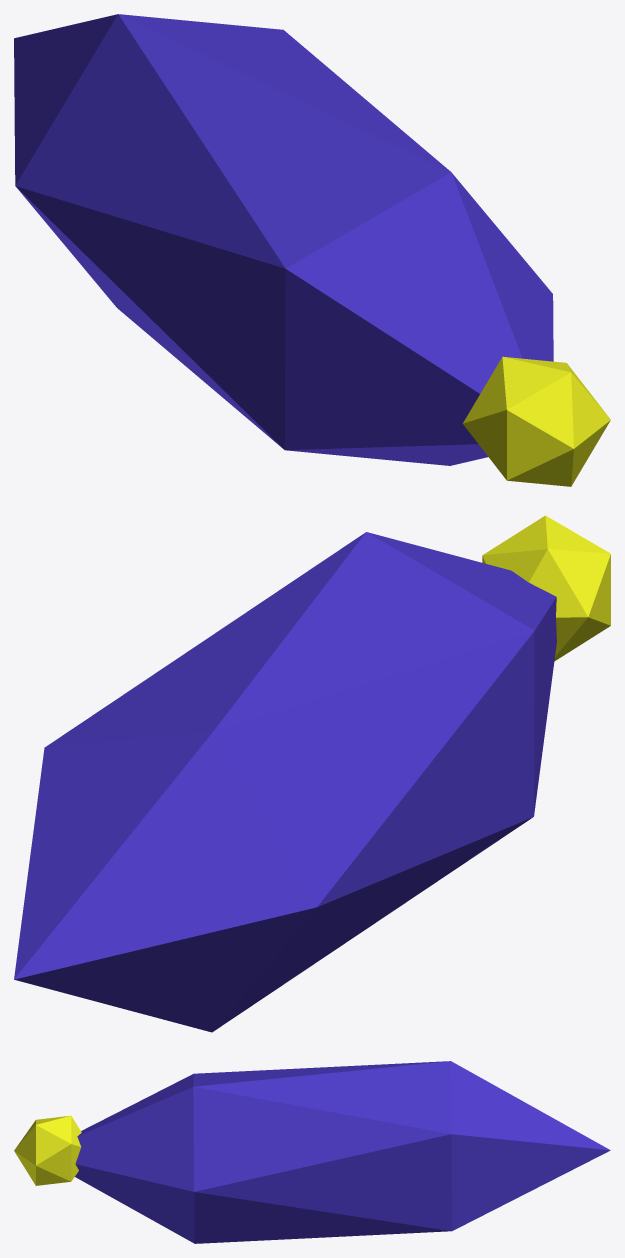
File: streptococcus_pyogenes_tail.obj
3 renders of one model, top to bottom at view 1: azimuth 30°, elevation 25°; view 2: azimuth 150°, elevation 25°; view 3: azimuth 270°, elevation 25°, orthographic. The views are drawn at different scales.
Visible parts, largest first — view 1: pasted__pasted__pPlatonic2 group6, pPlatonic3; view 2: pasted__pasted__pPlatonic2 group6, pPlatonic3; view 3: pasted__pasted__pPlatonic2 group6, pPlatonic3.
Part boxes in pixels (box(x1,y1,x2,y2)): pasted__pasted__pPlatonic2 group6: box(14, 14, 553, 465); pPlatonic3: box(462, 356, 610, 486); pasted__pasted__pPlatonic2 group6: box(14, 532, 556, 1032); pPlatonic3: box(482, 515, 610, 661); pasted__pasted__pPlatonic2 group6: box(75, 1061, 610, 1243); pPlatonic3: box(14, 1115, 81, 1185).
Bounding box in the file's own units: 1.79 × 1.72 × 5.86.
Materials: 1 (1 with a texture image).
